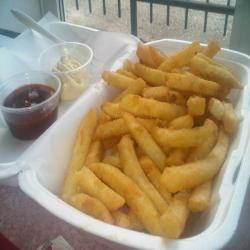fries: (86, 49, 224, 227)
ketchup: (1, 75, 65, 142)
